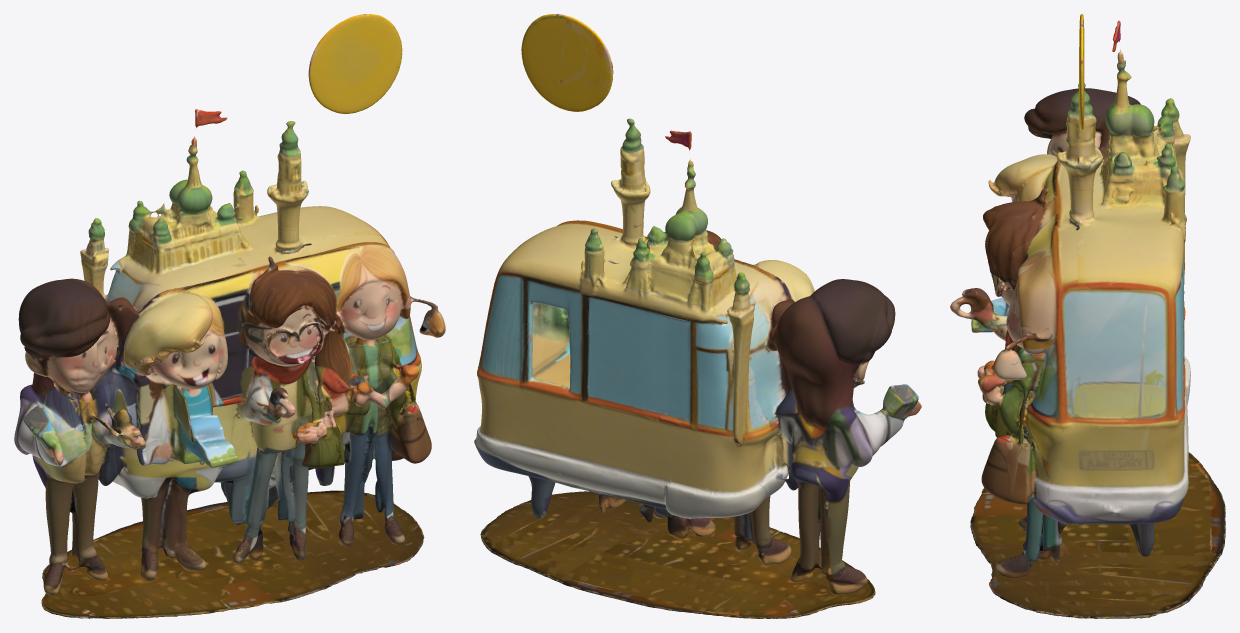
The model's file is tour.glb.
3 renders of one model, left to right at view 1: azimuth 30°, elevation 25°; view 2: azimuth 150°, elevation 25°; view 3: azimuth 270°, elevation 25°, orthographic. The views are drawn at different scales.
Size of the model in its own units: 46493 by 57700 by 25366.
Materials: 1 (1 with a texture image).
